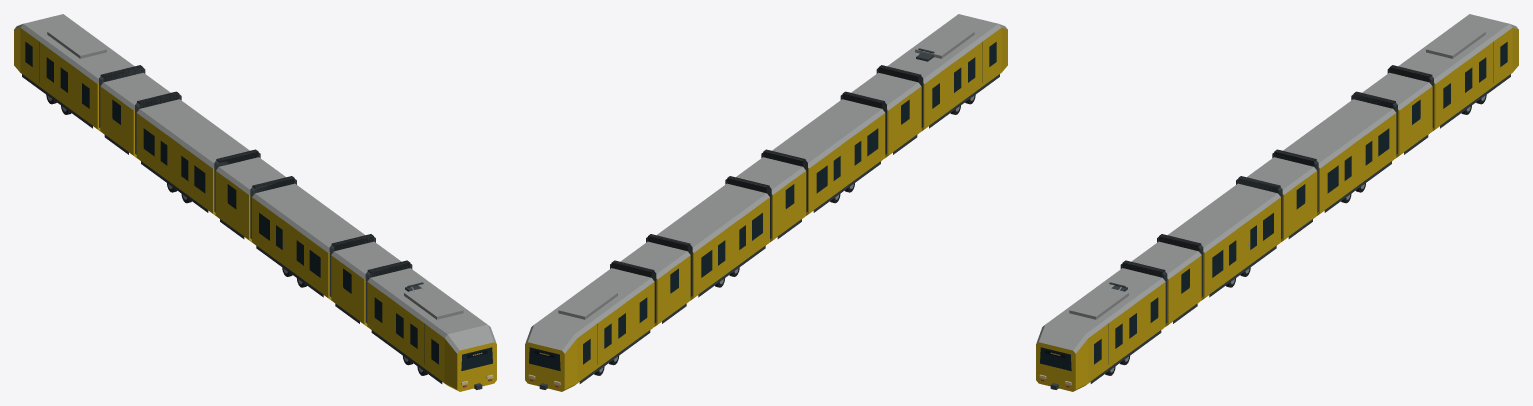
The model's file is tram-flexity-long.glb.
3 renders of one model, left to right at view 1: azimuth 30°, elevation 25°; view 2: azimuth 150°, elevation 25°; view 3: azimuth 330°, elevation 25°, orthographic.
Visible parts, largest first — view 1: tram-flexity-long.segment-01.005, tram-flexity-long.segment-05.005, tram-flexity-long.segment-03.005, tram-flexity-long.segment-07.005, tram-flexity-long.segment-04.005, tram-flexity-long.segment-02.005, tram-flexity-long.segment-06.005; view 2: tram-flexity-long.segment-07.005, tram-flexity-long.segment-01.005, tram-flexity-long.segment-03.005, tram-flexity-long.segment-05.005, tram-flexity-long.segment-02.005, tram-flexity-long.segment-04.005, tram-flexity-long.segment-06.005; view 3: tram-flexity-long.segment-01.005, tram-flexity-long.segment-05.005, tram-flexity-long.segment-03.005, tram-flexity-long.segment-07.005, tram-flexity-long.segment-04.005, tram-flexity-long.segment-02.005, tram-flexity-long.segment-06.005.
Part boxes in pixels (x1=…): tram-flexity-long.segment-01.005: x1=365, y1=260, x2=496, y2=391; tram-flexity-long.segment-05.005: x1=135, y1=91, x2=249, y2=215; tram-flexity-long.segment-03.005: x1=250, y1=176, x2=365, y2=300; tram-flexity-long.segment-07.005: x1=14, y1=14, x2=134, y2=131; tram-flexity-long.segment-04.005: x1=214, y1=149, x2=285, y2=242; tram-flexity-long.segment-02.005: x1=329, y1=234, x2=401, y2=326; tram-flexity-long.segment-06.005: x1=99, y1=65, x2=170, y2=157; tram-flexity-long.segment-07.005: x1=525, y1=268, x2=654, y2=391; tram-flexity-long.segment-01.005: x1=876, y1=14, x2=1007, y2=131; tram-flexity-long.segment-03.005: x1=761, y1=99, x2=885, y2=215; tram-flexity-long.segment-05.005: x1=646, y1=183, x2=769, y2=300; tram-flexity-long.segment-02.005: x1=840, y1=72, x2=921, y2=157; tram-flexity-long.segment-04.005: x1=725, y1=157, x2=806, y2=242; tram-flexity-long.segment-06.005: x1=610, y1=241, x2=690, y2=326; tram-flexity-long.segment-01.005: x1=1036, y1=260, x2=1167, y2=391; tram-flexity-long.segment-05.005: x1=1283, y1=91, x2=1397, y2=215; tram-flexity-long.segment-03.005: x1=1167, y1=176, x2=1282, y2=300; tram-flexity-long.segment-07.005: x1=1398, y1=14, x2=1518, y2=131; tram-flexity-long.segment-04.005: x1=1247, y1=149, x2=1318, y2=242; tram-flexity-long.segment-02.005: x1=1131, y1=234, x2=1203, y2=326; tram-flexity-long.segment-06.005: x1=1362, y1=65, x2=1433, y2=157.
Size of the model in its own units: 2.45 by 3.35 by 40.44.
